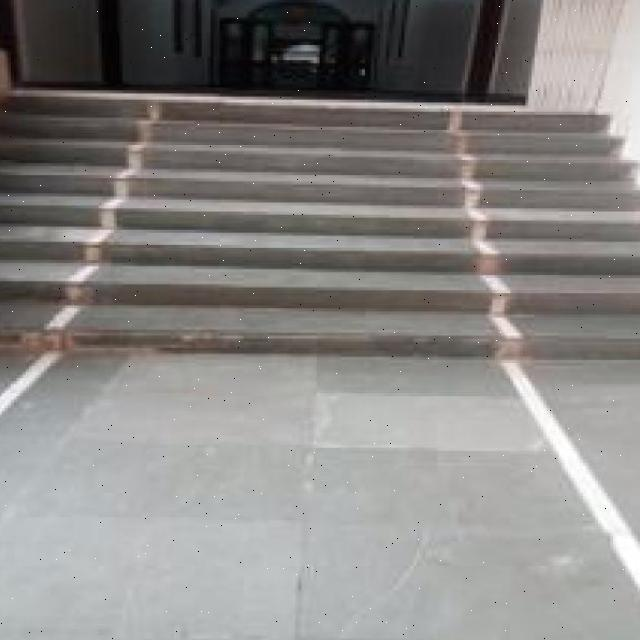stair: (96, 75, 535, 375)
